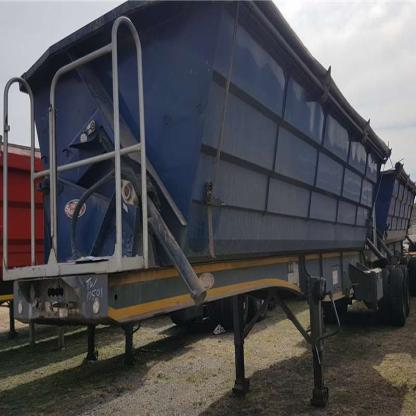dump_truck: (59, 5, 415, 406)
